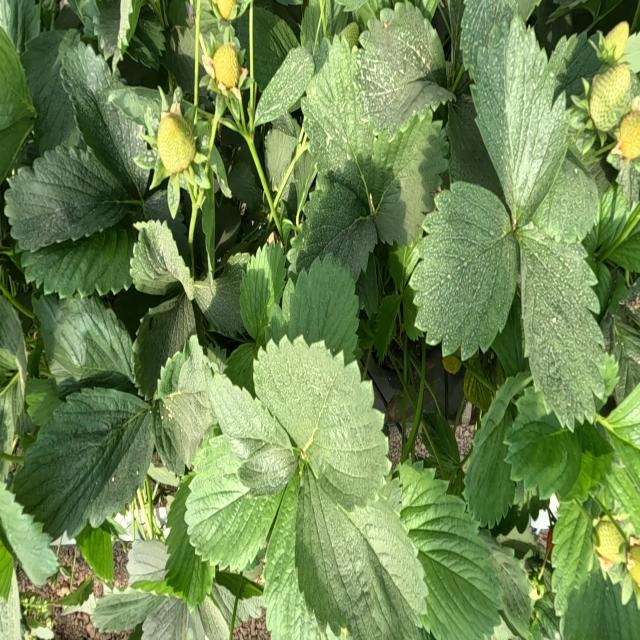Leaves: (257, 339, 390, 509), (297, 467, 427, 639), (16, 385, 152, 538), (470, 17, 567, 223), (396, 465, 502, 639), (412, 185, 518, 356), (521, 230, 604, 428), (62, 40, 150, 193), (4, 145, 130, 250), (185, 435, 278, 571), (359, 3, 447, 134), (302, 38, 372, 201), (208, 374, 296, 496), (371, 112, 449, 246), (36, 295, 133, 393), (263, 489, 326, 638), (290, 175, 376, 275), (505, 386, 581, 499), (155, 339, 218, 474), (22, 226, 134, 296), (20, 30, 78, 152), (290, 254, 359, 356), (460, 0, 541, 79), (464, 405, 515, 526), (165, 479, 213, 607), (136, 291, 195, 395), (0, 483, 58, 585), (562, 565, 639, 639), (534, 159, 599, 242), (481, 531, 532, 636), (0, 33, 35, 180), (130, 219, 194, 296), (240, 240, 286, 341), (552, 503, 594, 613), (255, 46, 313, 125), (195, 259, 246, 339), (253, 7, 299, 92), (548, 32, 600, 100), (91, 582, 163, 631), (419, 410, 461, 489), (300, 0, 348, 53), (0, 296, 27, 386), (164, 29, 194, 102), (144, 190, 187, 239), (265, 129, 296, 190), (388, 236, 421, 293), (373, 294, 401, 361), (1, 1, 39, 50), (80, 527, 114, 581), (141, 598, 185, 639), (127, 539, 167, 584), (26, 377, 60, 426), (215, 200, 241, 257), (95, 0, 120, 57), (402, 286, 422, 339), (234, 18, 248, 49)
Strawberries: (589, 64, 633, 130), (157, 114, 195, 173), (615, 100, 639, 160), (600, 21, 629, 64), (595, 521, 623, 564), (214, 44, 238, 88), (214, 1, 235, 19)
